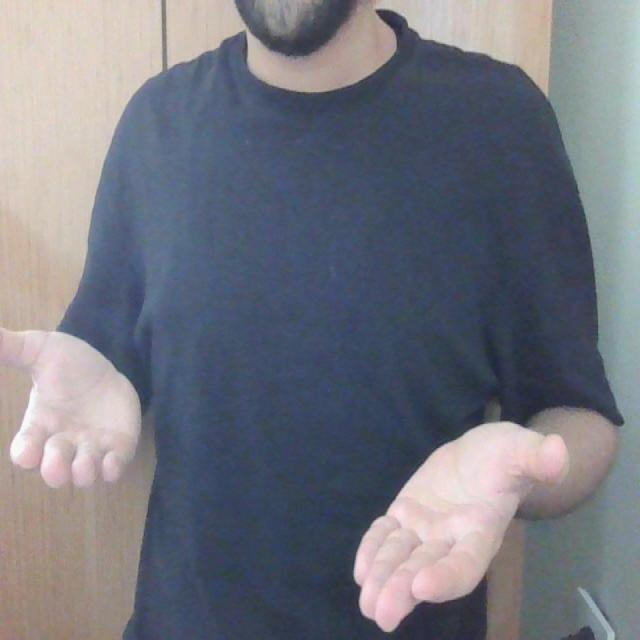Evet: (0, 322, 574, 638)
